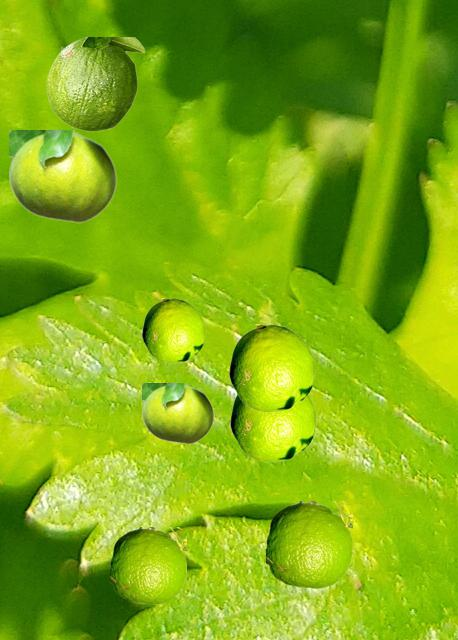dalandan: (9, 130, 116, 222), (46, 37, 144, 130), (229, 324, 314, 411), (266, 501, 351, 587), (110, 527, 185, 603), (230, 395, 315, 461), (142, 383, 213, 443), (142, 298, 204, 362)
